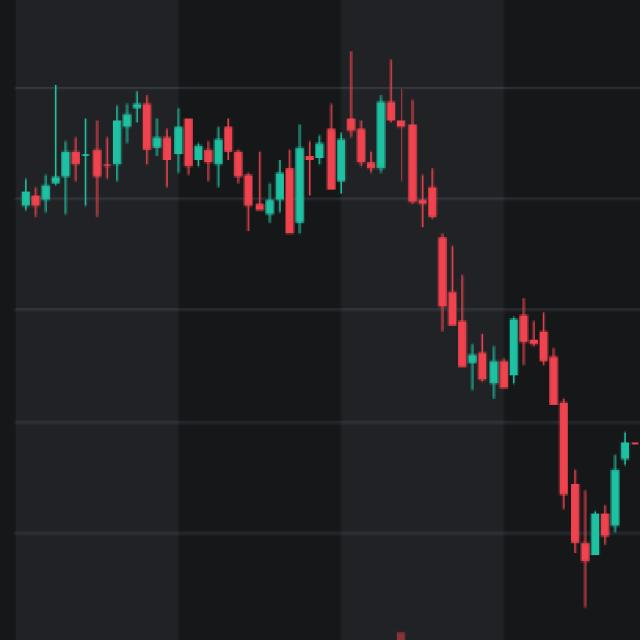Support-breakout: (274, 49, 508, 404)
